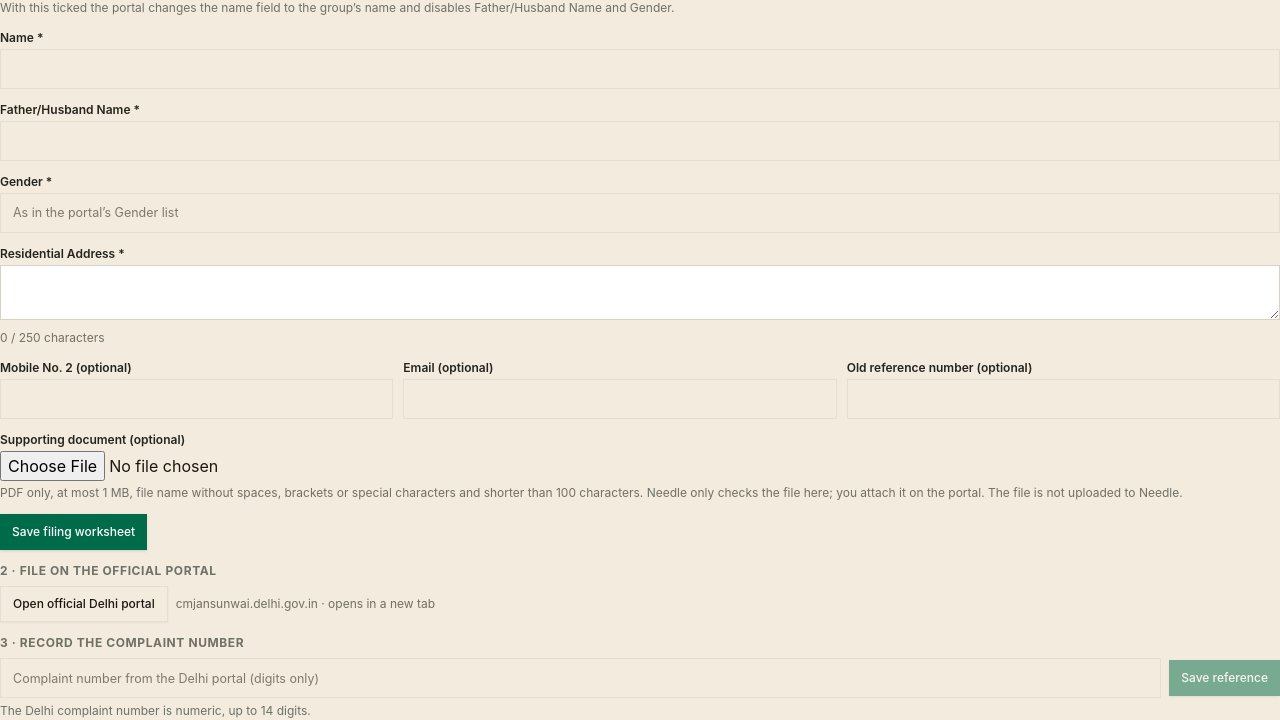
DelhiManualReferencePanel › reports an idempotent response as already recorded
(page scrolled)
Type "20260000005" into the field named "Delhi portal reference number" at (581, 678), box [0, 658, 1161, 698]
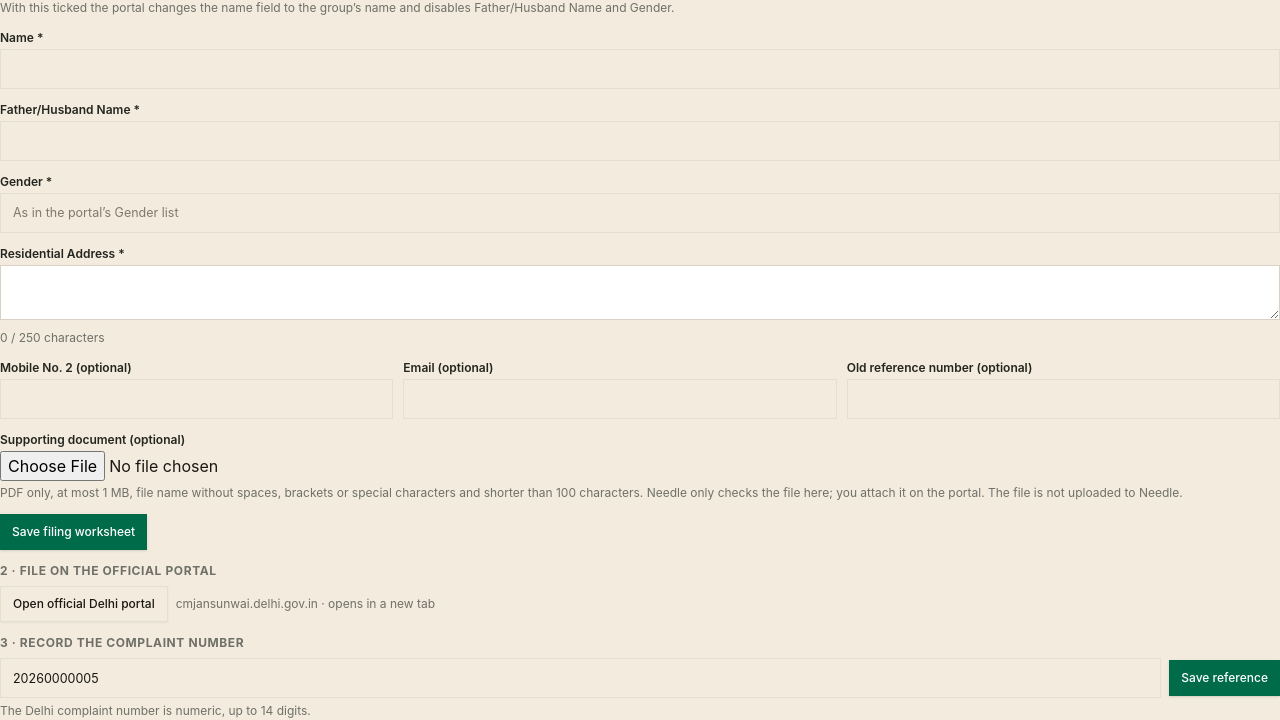
Click the button "Save reference" at (1225, 678), box [1169, 660, 1279, 696]
(page scrolled)
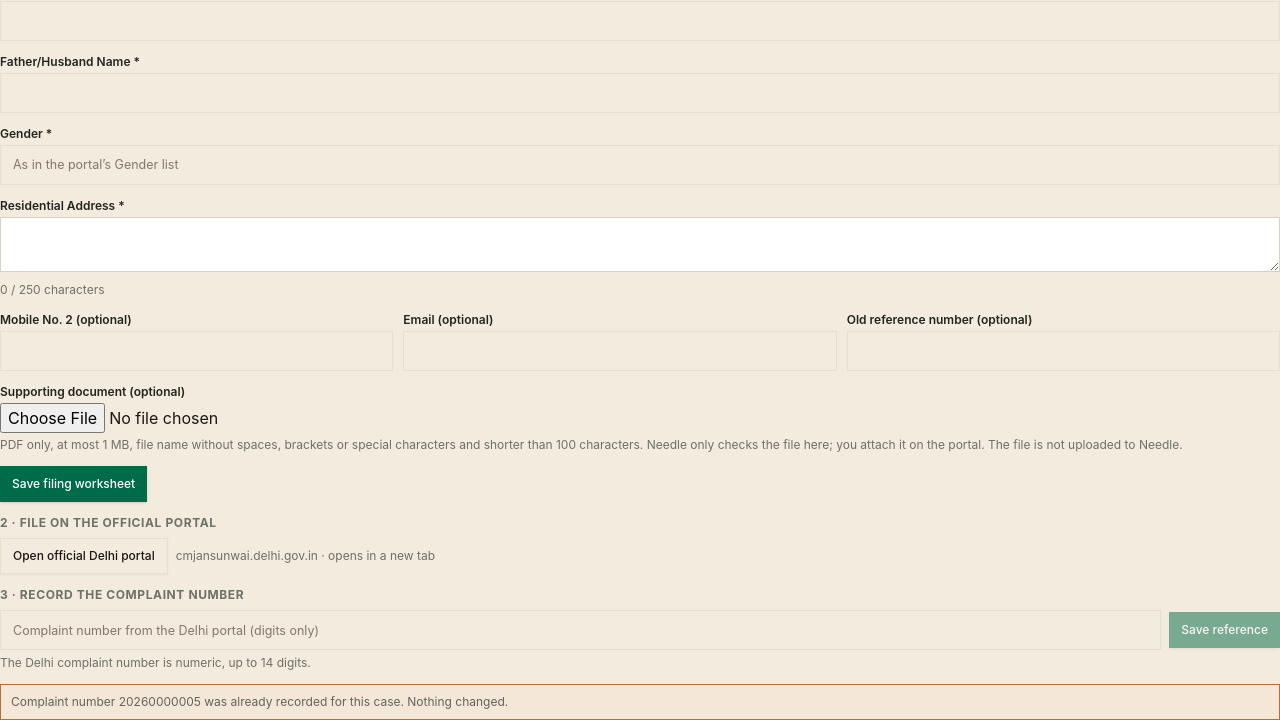
Expected: the text "already recorded for this case" is shown, [11, 694, 508, 710]
